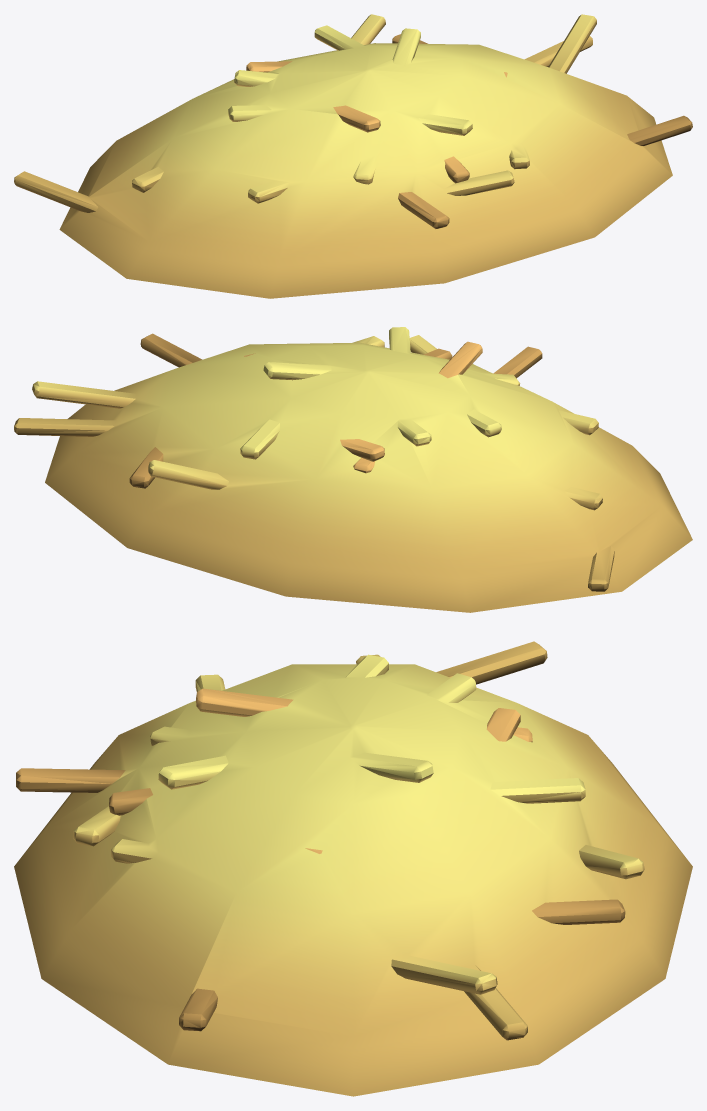
Rendered from straw_pile.glb.
The picture shows the model from 3 angles, top to bottom: view 1: azimuth 30°, elevation 25°; view 2: azimuth 150°, elevation 25°; view 3: azimuth 270°, elevation 25°; orthographic projection. The views are drawn at different scales.
Parts seen in each view (by area): view 1: Item; view 2: Item; view 3: Item.
Boxes of the visible parts, x1=… form: Item: x1=14, y1=14, x2=692, y2=298; Item: x1=14, y1=327, x2=692, y2=612; Item: x1=14, y1=641, x2=692, y2=1096.
Size of the model in its own units: 1.91 by 0.3942 by 1.35.
1 material, 1 textured.
